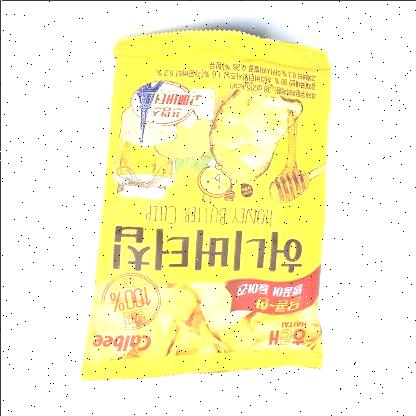Others: (70, 24, 340, 392)
